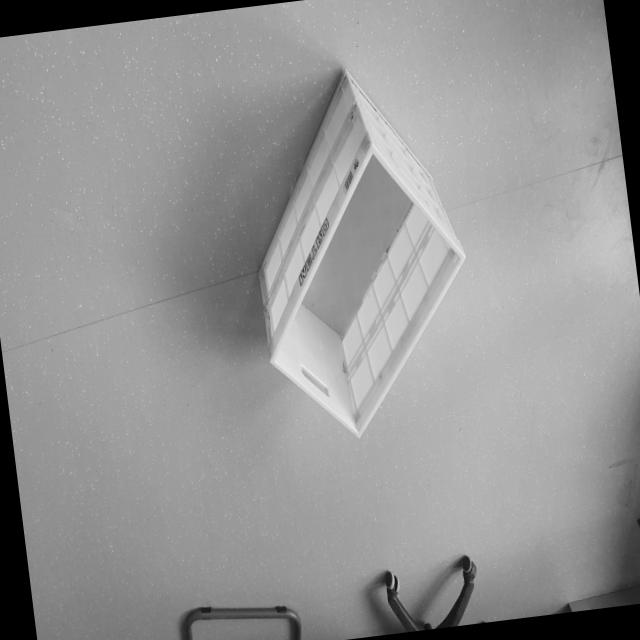box: (220, 41, 495, 473)
